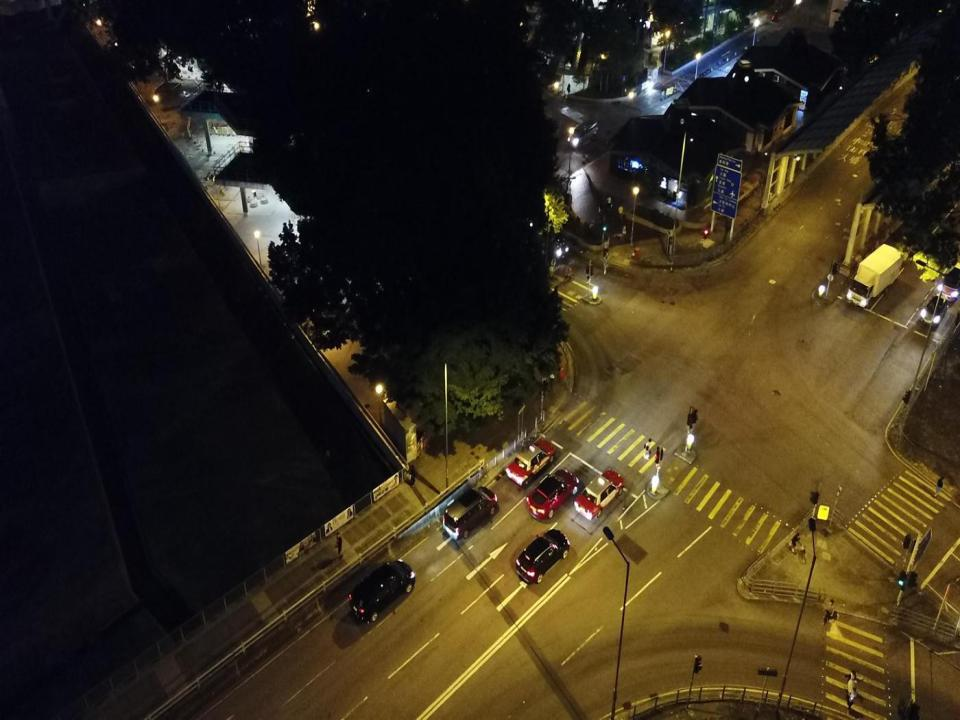car: (348, 558, 416, 624), (516, 527, 571, 585), (442, 485, 498, 541), (572, 468, 625, 521), (526, 468, 579, 521), (505, 438, 556, 488), (919, 292, 948, 328), (938, 265, 960, 302)
truck: (846, 242, 903, 308)
van: (566, 118, 599, 150)
